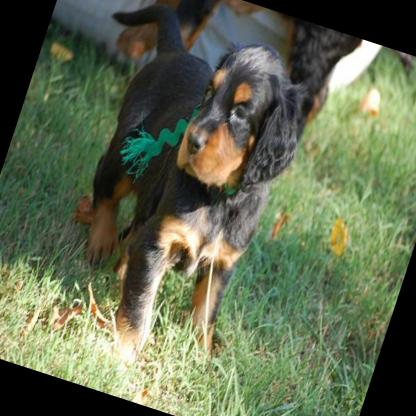Gordon_setter: (10, 0, 330, 390)
